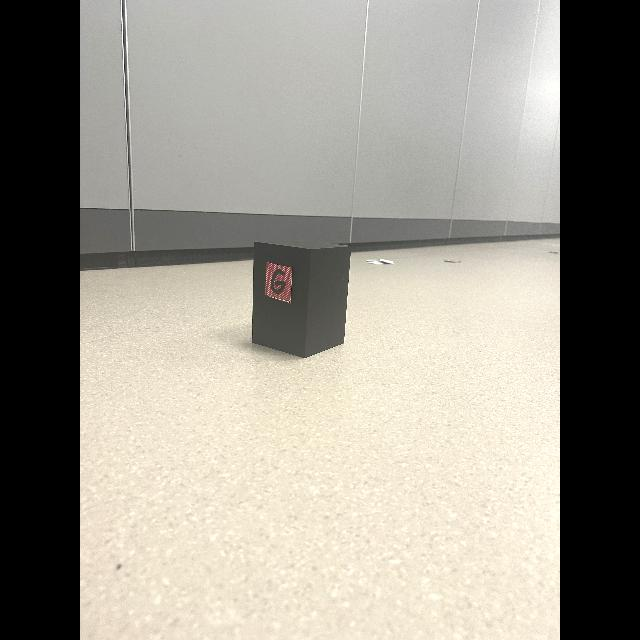G: (271, 268, 286, 294)
